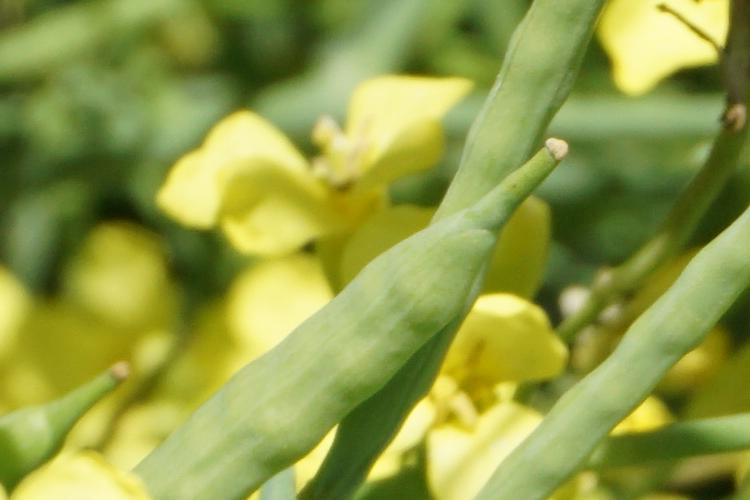pod: (199, 138, 566, 422), (18, 325, 140, 460)
yellow: (217, 80, 437, 233)
